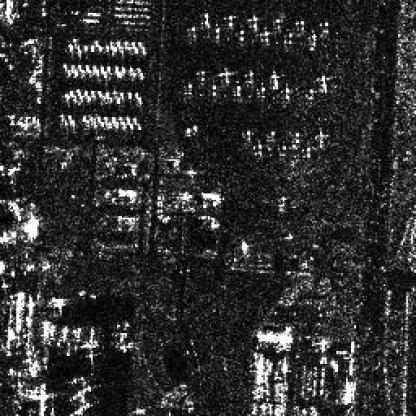airplane: (289, 15, 309, 31), (216, 66, 232, 84), (195, 68, 208, 90), (317, 18, 335, 32), (254, 81, 268, 99), (281, 30, 296, 46), (268, 72, 281, 90), (258, 28, 272, 44), (306, 31, 318, 49), (281, 84, 293, 102), (182, 80, 195, 96), (211, 25, 223, 42), (273, 12, 284, 30), (247, 13, 260, 28), (186, 24, 198, 40), (224, 10, 236, 26), (200, 10, 211, 26), (236, 26, 247, 42), (244, 70, 255, 86), (232, 83, 244, 97), (208, 83, 219, 97), (81, 42, 88, 56), (76, 94, 84, 106), (75, 42, 81, 56), (135, 65, 143, 75), (111, 89, 117, 101), (130, 68, 136, 80), (122, 37, 128, 49), (63, 92, 70, 102), (68, 89, 75, 99), (125, 91, 132, 101), (102, 89, 109, 99), (89, 89, 96, 99), (76, 63, 83, 73), (138, 70, 145, 80), (115, 70, 122, 80), (67, 113, 73, 124), (101, 114, 107, 125), (124, 114, 130, 125), (74, 87, 80, 98), (70, 61, 76, 72), (84, 61, 90, 72), (67, 41, 73, 52), (112, 65, 120, 73), (86, 112, 91, 124), (135, 120, 141, 130), (135, 96, 141, 106), (119, 89, 124, 101), (98, 94, 104, 104), (127, 65, 133, 75), (93, 37, 99, 47), (111, 44, 117, 54), (133, 91, 140, 99), (73, 68, 80, 76), (91, 119, 96, 130), (94, 113, 99, 124), (119, 44, 124, 55), (133, 44, 138, 55), (98, 42, 104, 51), (63, 118, 68, 128), (70, 118, 75, 128), (83, 118, 88, 128), (110, 115, 115, 125), (117, 115, 122, 125), (120, 120, 125, 130), (96, 89, 101, 99), (81, 66, 86, 76), (120, 65, 125, 75), (91, 63, 96, 73), (99, 63, 104, 73), (102, 68, 107, 78), (104, 42, 109, 52), (127, 44, 132, 54), (58, 114, 64, 122), (127, 122, 133, 130), (106, 96, 112, 104), (85, 94, 91, 102), (62, 62, 68, 70), (65, 68, 71, 76), (80, 113, 84, 124), (72, 36, 76, 47), (140, 44, 144, 55), (99, 120, 104, 128), (106, 120, 110, 130), (114, 120, 118, 130), (72, 94, 76, 104), (116, 96, 120, 106), (83, 90, 88, 98), (106, 65, 110, 75), (94, 68, 99, 76), (90, 42, 94, 52), (109, 38, 114, 46), (116, 37, 120, 47), (130, 39, 135, 47), (136, 39, 141, 47), (132, 115, 136, 124)
